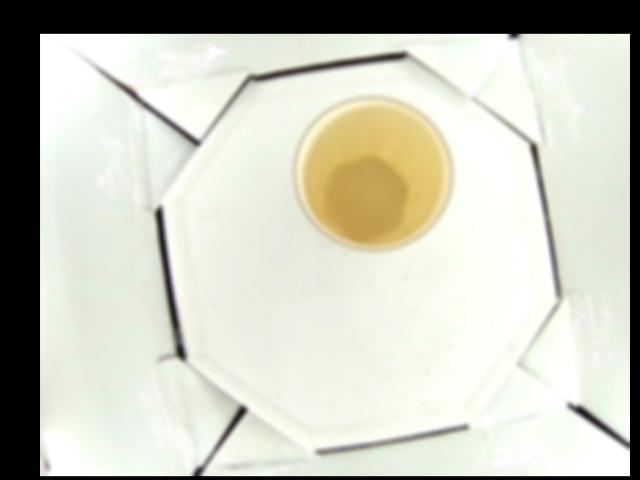Cup: (293, 91, 454, 251)
